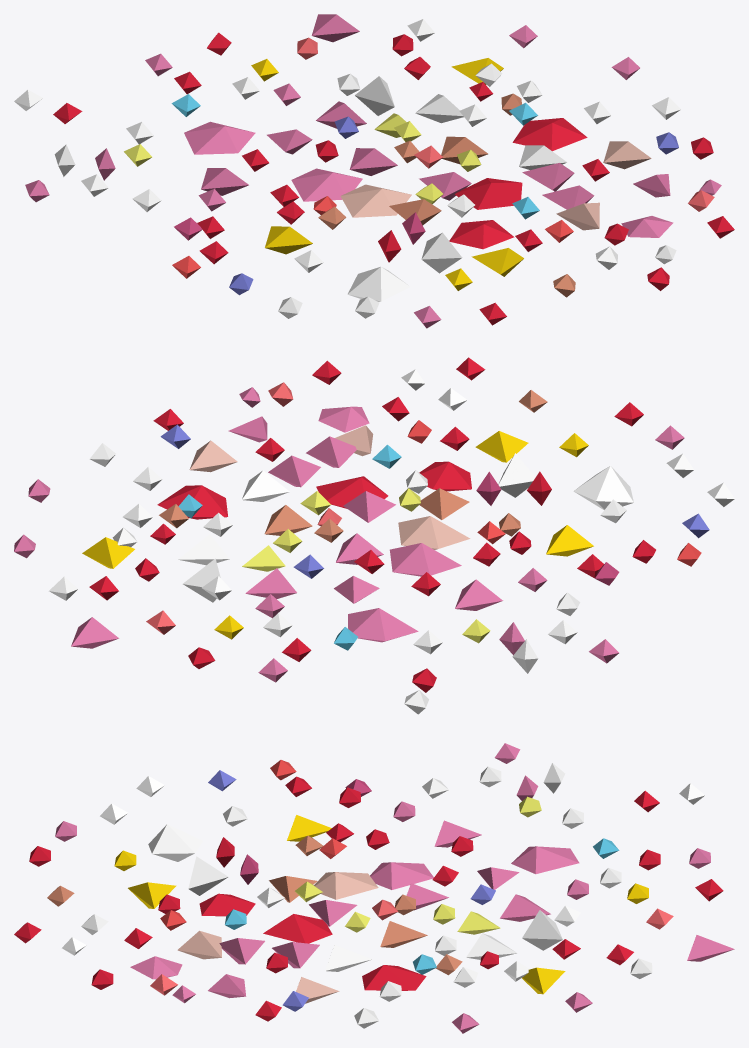
The model's file is ZLP_Flower_A_1.FBX.
3 views of the same model, one above another, from view 1: azimuth 30°, elevation 25°; view 2: azimuth 150°, elevation 25°; view 3: azimuth 270°, elevation 25° (orthographic). The views are drawn at different scales.
Parts seen in each view (by area): view 1: ZLP_Flower_A_1; view 2: ZLP_Flower_A_1; view 3: ZLP_Flower_A_1.
Part boxes in pixels (box(x1,y1,x2,y2)): ZLP_Flower_A_1: box(14, 14, 734, 328); ZLP_Flower_A_1: box(14, 357, 734, 714); ZLP_Flower_A_1: box(14, 743, 734, 1033).
Bounding box in the file's own units: 162 × 12.12 × 176.
